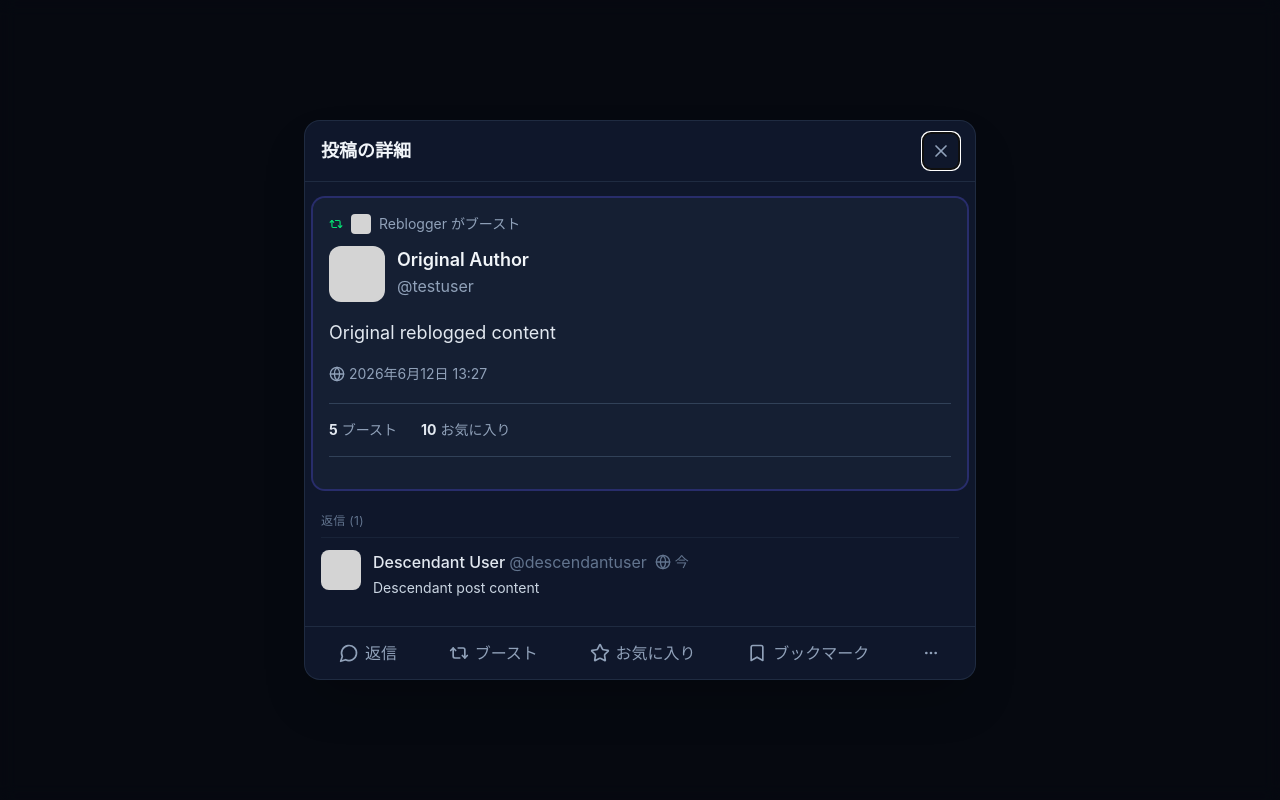
Test: StatusDetailModal › thread navigation › should hide reblog indicator after navigating within thread
Expected: the text "Reblogger がブースト" is shown, top-left (379, 214), bottom-right (520, 234)
Note: Navigate to descendant
What coordinates should you click on to do the following:
click the text "Descendant post content"
I would click on:
 (456, 587)
Its box is top-left (373, 579), bottom-right (539, 596).
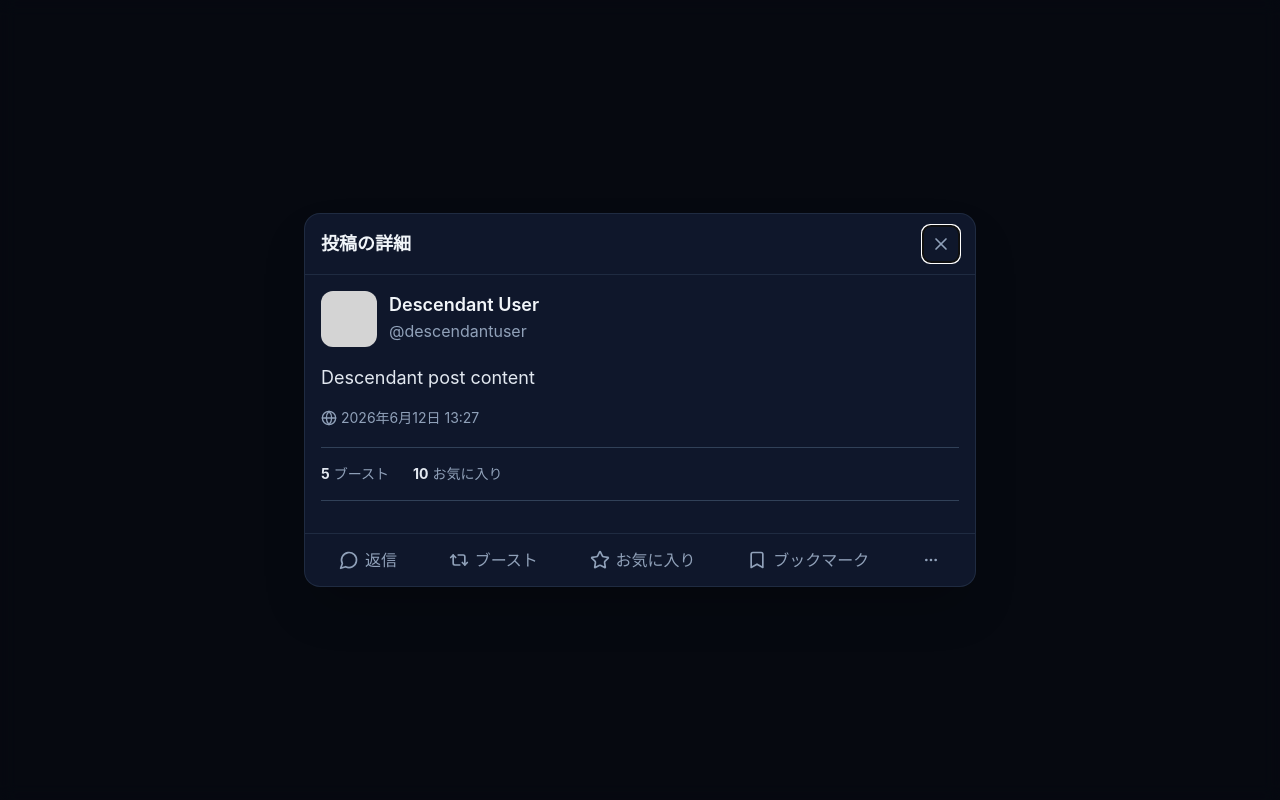
Now the text "がブースト" is gone
